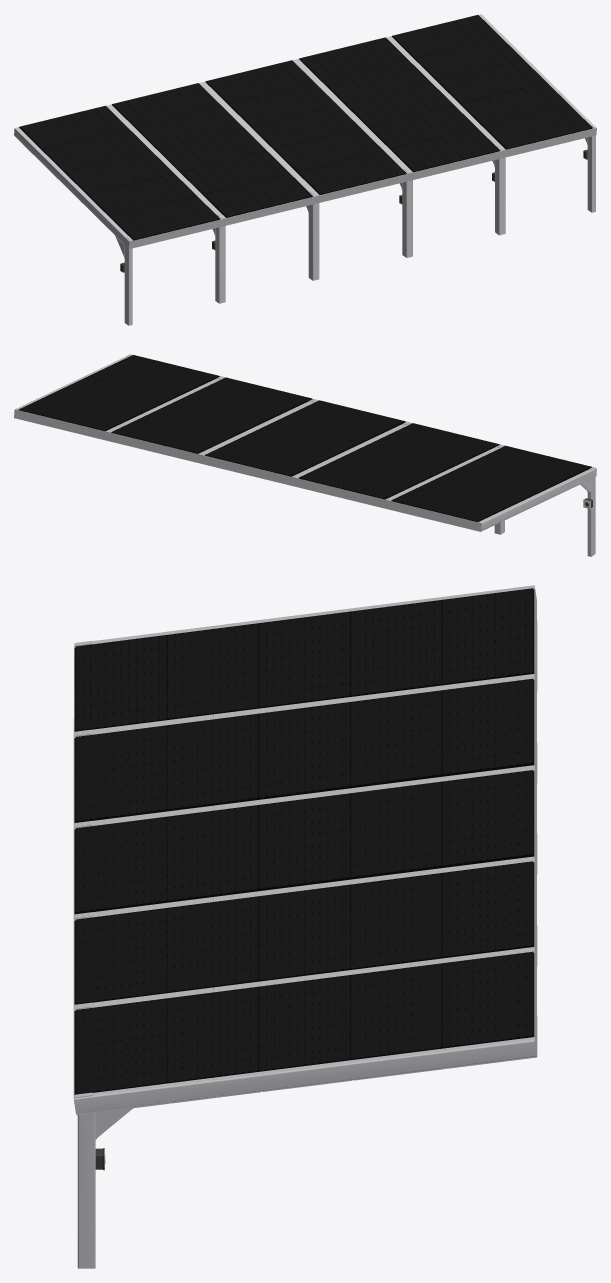
The model's file is Cap_5.glb.
The picture shows the model from 3 angles, top to bottom: view 1: azimuth 30°, elevation 25°; view 2: azimuth 150°, elevation 25°; view 3: azimuth 270°, elevation 25°; orthographic projection. The views are drawn at different scales.
Visible parts, largest first — view 1: Left.083, Middle.041, Middle.042, Middle.040, Middle.045, Right.010; view 2: Left.083, Middle.040, Middle.042, Middle.041, Middle.045, Right.010; view 3: Middle.045, Middle.041, Middle.040, Middle.042, Left.083, Right.010.
Boxes of the visible parts, x1,y1,x2,y2 form: Left.083: (14,105,223,325); Middle.041: (199,59,410,280); Middle.042: (292,37,504,257); Middle.040: (106,82,316,303); Middle.045: (386,14,596,235); Right.010: (479,14,595,212); Left.083: (386,445,596,556); Middle.040: (293,423,504,534); Middle.042: (106,377,318,463); Middle.041: (200,400,411,486); Middle.045: (14,355,224,440); Right.010: (15,354,132,409); Middle.045: (73,947,537,1115); Middle.041: (73,765,537,917); Middle.040: (73,674,537,825); Middle.042: (73,856,537,1007); Left.083: (73,585,537,734); Right.010: (74,1037,536,1268).
Size of the model in its own units: 13.36 by 3.11 by 5.7.
Materials: 5 (5 with a texture image).
